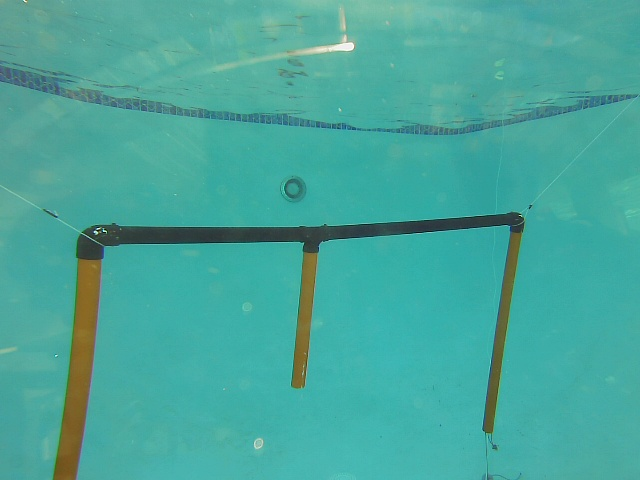Gate: (48, 252, 108, 480), (478, 225, 523, 436), (285, 245, 322, 394)
